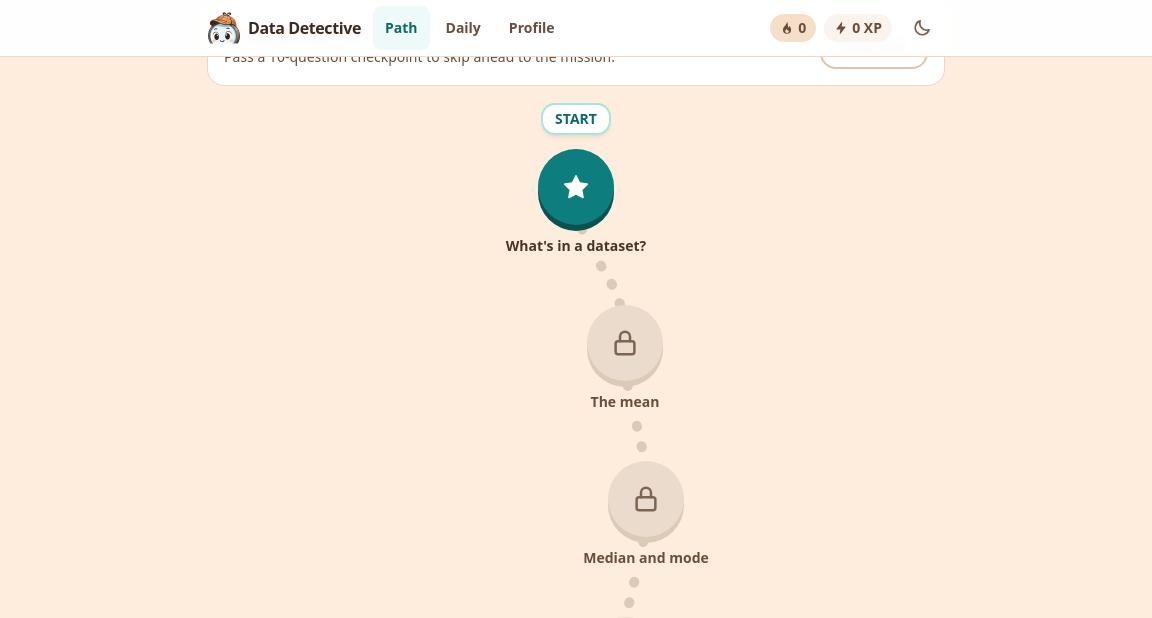
Test case: path page › explains which lesson unlocks a locked lesson
(page scrolled)
Click the button with aria-label "lesson 2: the mean" at [625, 361], box [545,305,705,416]
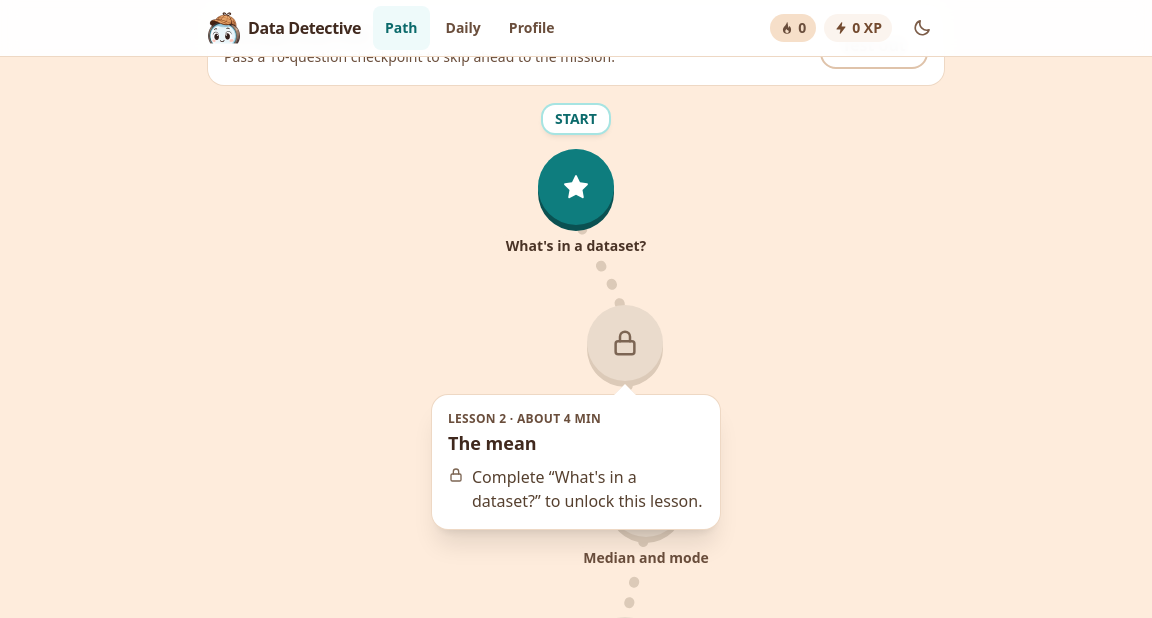
Expected: the text "Complete “What's in a dataset?” to unlock this lesson." is shown, [472,465,704,513]
Press Escape
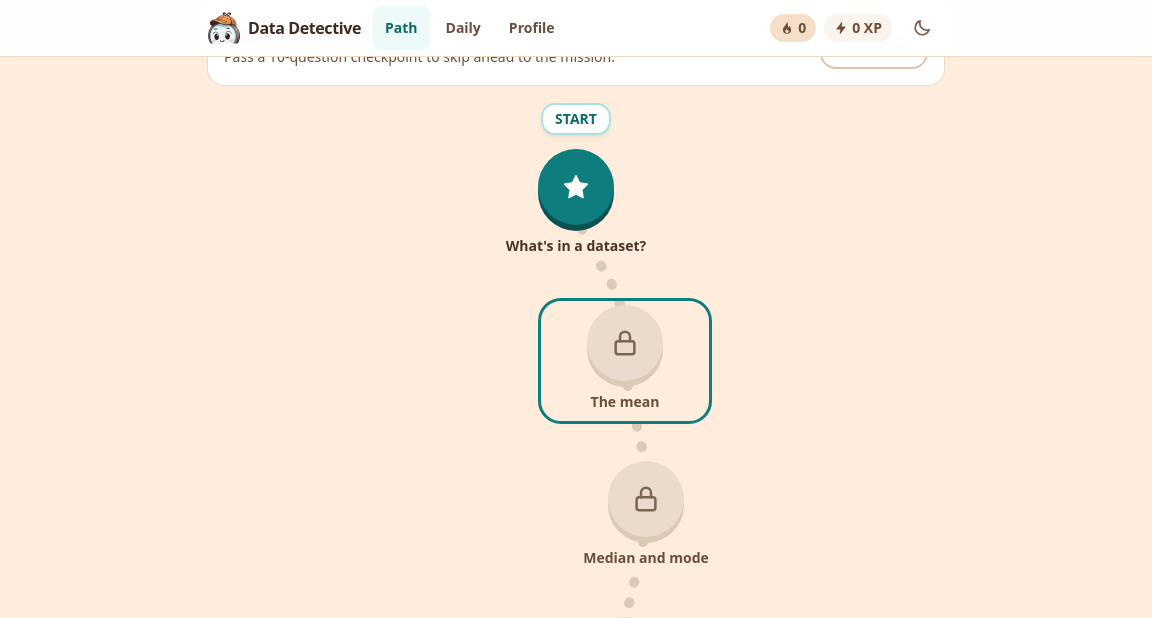
Expected: the dialog is gone
